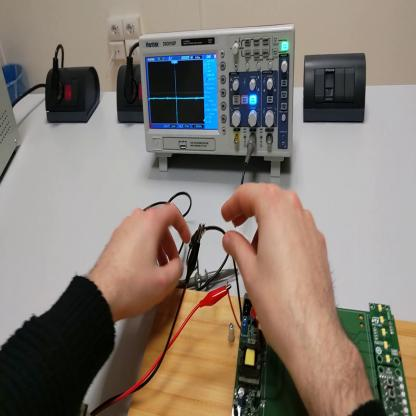hand: (221, 181, 345, 368), (99, 203, 191, 318)
low voltage board: (205, 225, 414, 416)
oscilloscope: (138, 25, 298, 176)
oscilloscope probe tip: (179, 269, 237, 288)
power supply: (2, 63, 21, 188)
socket: (44, 67, 103, 128), (116, 58, 145, 126)
working area: (129, 287, 416, 415)
